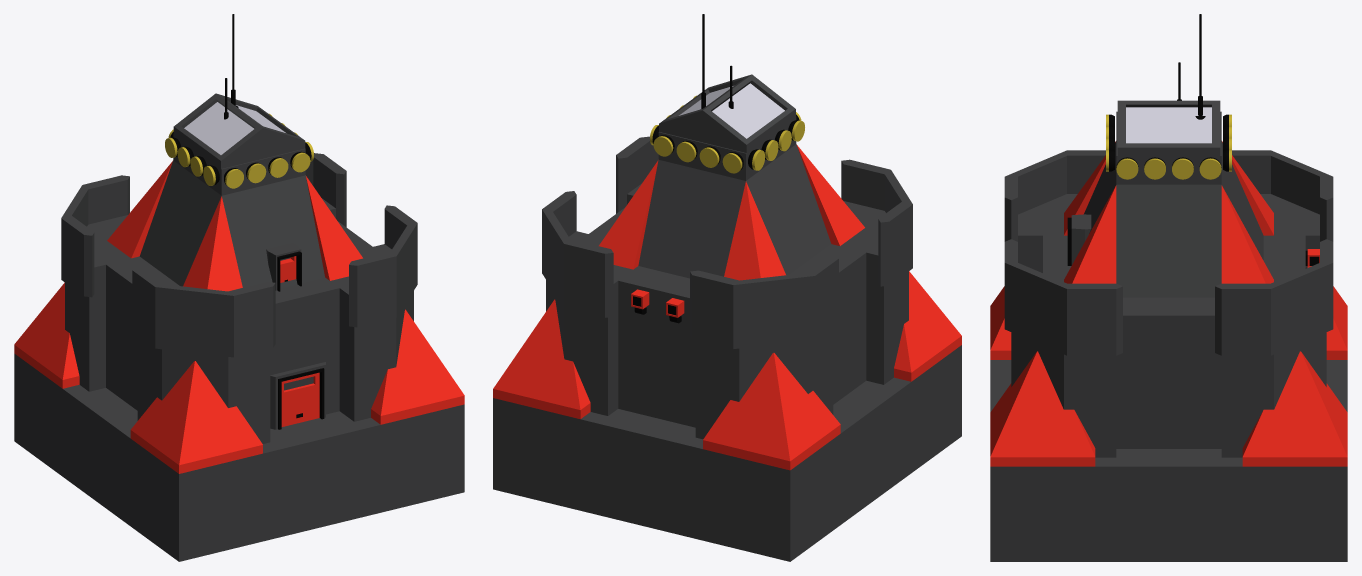
Rendered from bunker.fbx.
3 renders of one model, left to right at view 1: azimuth 30°, elevation 25°; view 2: azimuth 150°, elevation 25°; view 3: azimuth 270°, elevation 25°, orthographic. The views are drawn at different scales.
Parts seen in each view (by area): view 1: block_default_54, wall_cornerDiagonal_23, roof_point_rounded_9, slope_default_27, block_corner_small_14, block_4, roof_windowGlass%_44, block_corner_small_3, wall_cornerDiagonal_19, slope_default_29, roof_point_rounded_10, block_corner_small_15 (+12 smaller); view 2: block_default_54, wall_cornerDiagonal_24, block_4, slope_default_28, roof_point_rounded_8, block_corner_small_15, roof_windowGlass%_44, wall_cornerDiagonal_25, slope_default_29, roof_point_rounded_7, block_corner_small_16, block_corner_small_14 (+10 smaller); view 3: block_default_54, block_17, slope_default_30, wall_cornerDiagonal_19, wall_cornerDiagonal_25, roof_point_rounded_7, roof_point_rounded_10, block_corner_small_3, block_corner_small_16, roof_windowGlass%_44, wall_cornerDiagonal_23, wall_cornerDiagonal_24 (+16 smaller).
Boxes of the visible parts, x1=… form: block_default_54: x1=14, y1=353, x2=464, y2=561; wall_cornerDiagonal_23: x1=132, y1=267, x2=275, y2=357; roof_point_rounded_9: x1=130, y1=361, x2=262, y2=473; slope_default_27: x1=222, y1=175, x2=324, y2=288; block_corner_small_14: x1=137, y1=336, x2=270, y2=443; block_4: x1=270, y1=277, x2=339, y2=414; roof_windowGlass%_44: x1=173, y1=93, x2=305, y2=168; block_corner_small_3: x1=330, y1=244, x2=413, y2=421; wall_cornerDiagonal_19: x1=349, y1=205, x2=417, y2=327; slope_default_29: x1=139, y1=160, x2=221, y2=286; roof_point_rounded_10: x1=371, y1=309, x2=464, y2=424; block_corner_small_15: x1=65, y1=215, x2=130, y2=391; block_default_54: x1=493, y1=345, x2=961, y2=561; wall_cornerDiagonal_24: x1=690, y1=255, x2=838, y2=349; block_4: x1=618, y1=266, x2=695, y2=427; slope_default_28: x1=638, y1=160, x2=745, y2=278; roof_point_rounded_8: x1=703, y1=353, x2=840, y2=470; block_corner_small_15: x1=695, y1=327, x2=833, y2=439; roof_windowGlass%_44: x1=659, y1=74, x2=795, y2=152; wall_cornerDiagonal_25: x1=542, y1=191, x2=613, y2=317; slope_default_29: x1=746, y1=144, x2=831, y2=275; roof_point_rounded_7: x1=493, y1=299, x2=590, y2=419; block_corner_small_16: x1=546, y1=231, x2=632, y2=415; block_corner_small_14: x1=840, y1=201, x2=908, y2=384; block_default_54: x1=990, y1=360, x2=1347, y2=561; block_17: x1=1116, y1=297, x2=1221, y2=448; slope_default_30: x1=1116, y1=184, x2=1221, y2=297; wall_cornerDiagonal_19: x1=1004, y1=239, x2=1122, y2=355; wall_cornerDiagonal_25: x1=1215, y1=239, x2=1333, y2=355; roof_point_rounded_7: x1=1242, y1=351, x2=1347, y2=466; roof_point_rounded_10: x1=990, y1=351, x2=1095, y2=466; block_corner_small_3: x1=1011, y1=280, x2=1116, y2=457; block_corner_small_16: x1=1221, y1=280, x2=1326, y2=457; roof_windowGlass%_44: x1=1117, y1=100, x2=1220, y2=155; wall_cornerDiagonal_23: x1=1004, y1=150, x2=1105, y2=241; wall_cornerDiagonal_24: x1=1232, y1=150, x2=1333, y2=241.
Bounding box in the file's own units: 34 × 50 × 34.
